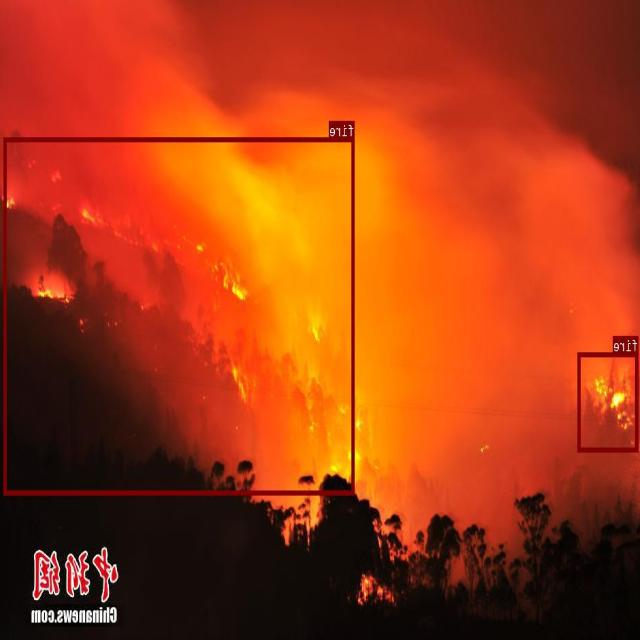fire: (4, 136, 355, 494), (578, 352, 639, 452)
